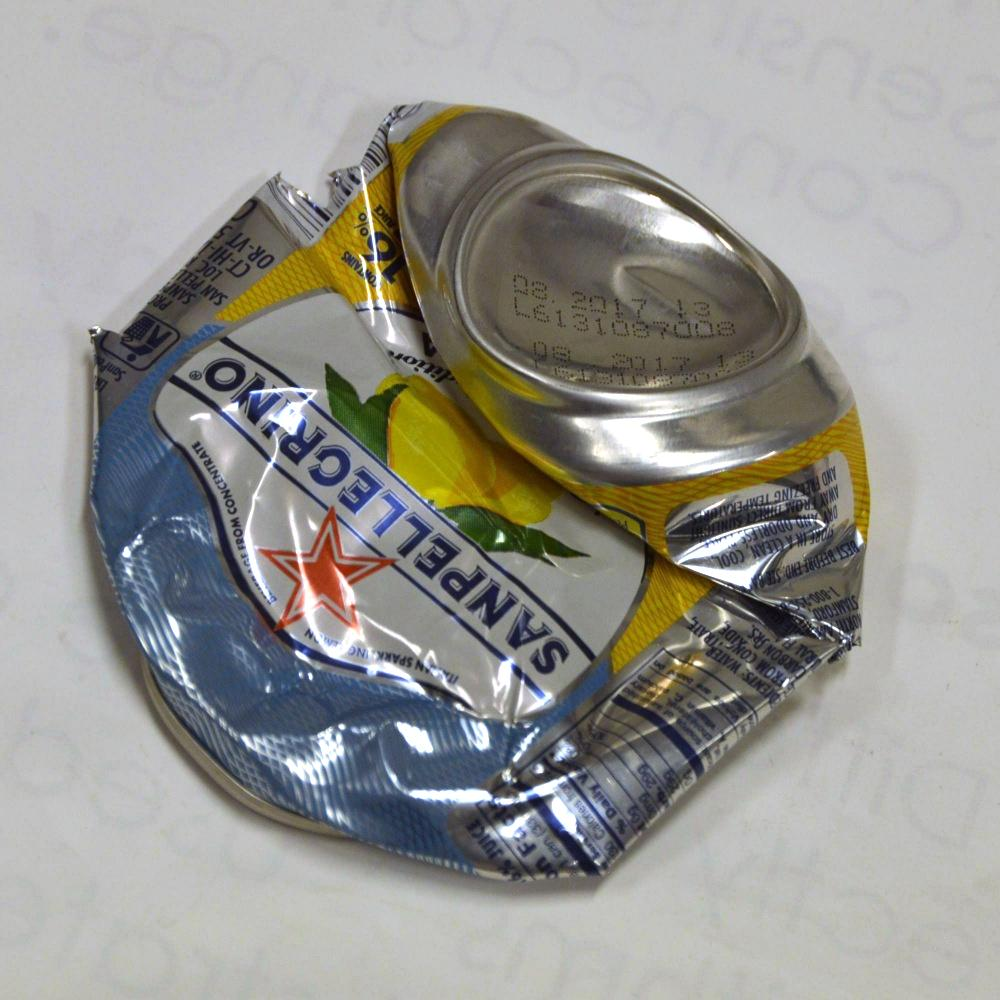Metal: (90, 143, 831, 920)
